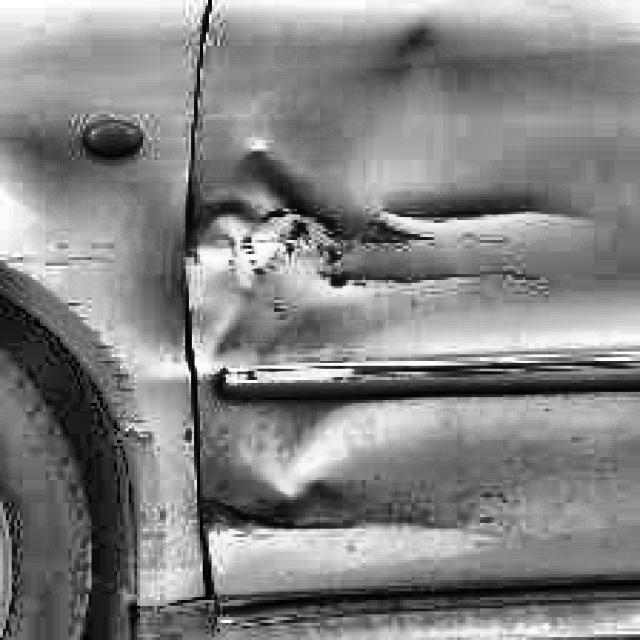bumper_scratch: (366, 199, 578, 248), (223, 484, 354, 546), (352, 260, 549, 297)
door_dent: (187, 166, 364, 504)
